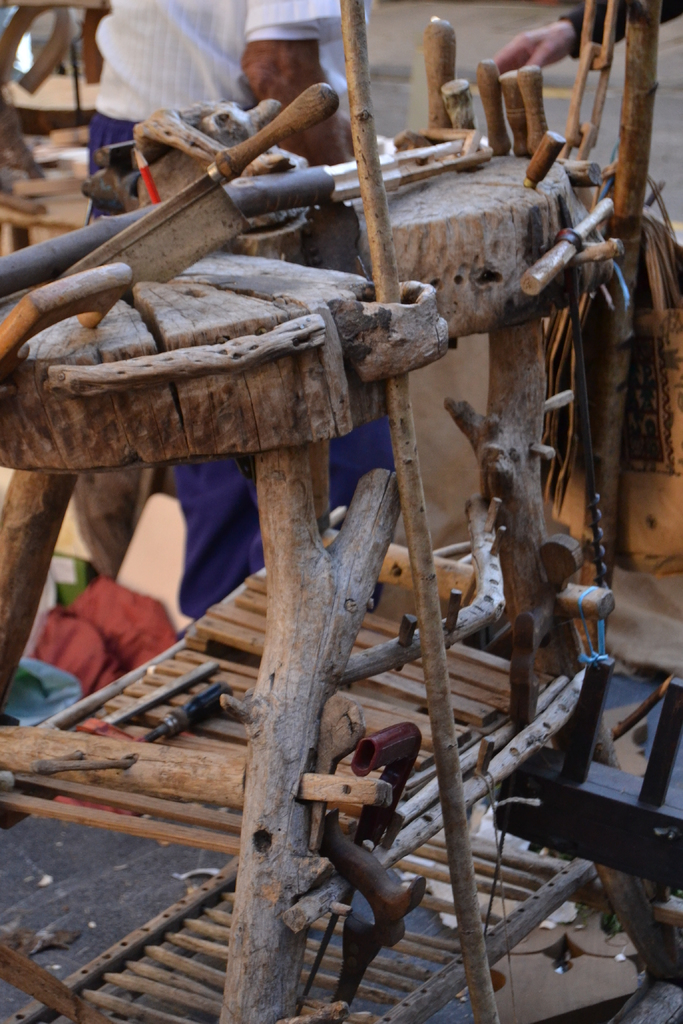Person: (86, 0, 394, 621), (488, 0, 683, 74)
